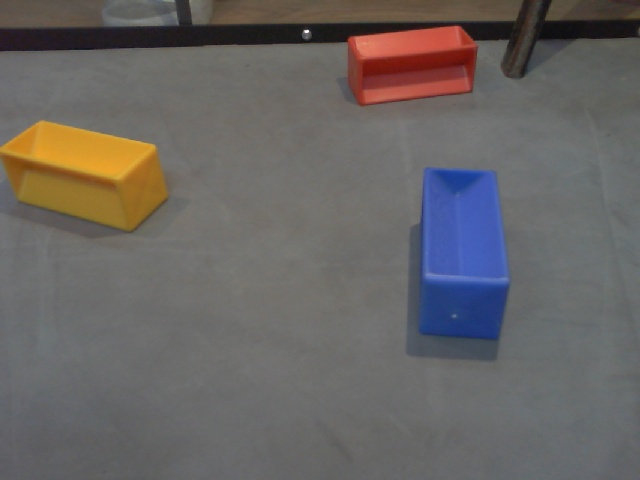BlueSample: (409, 162, 512, 346)
RedSample: (343, 22, 481, 107)
YellowSample: (1, 118, 170, 237)
